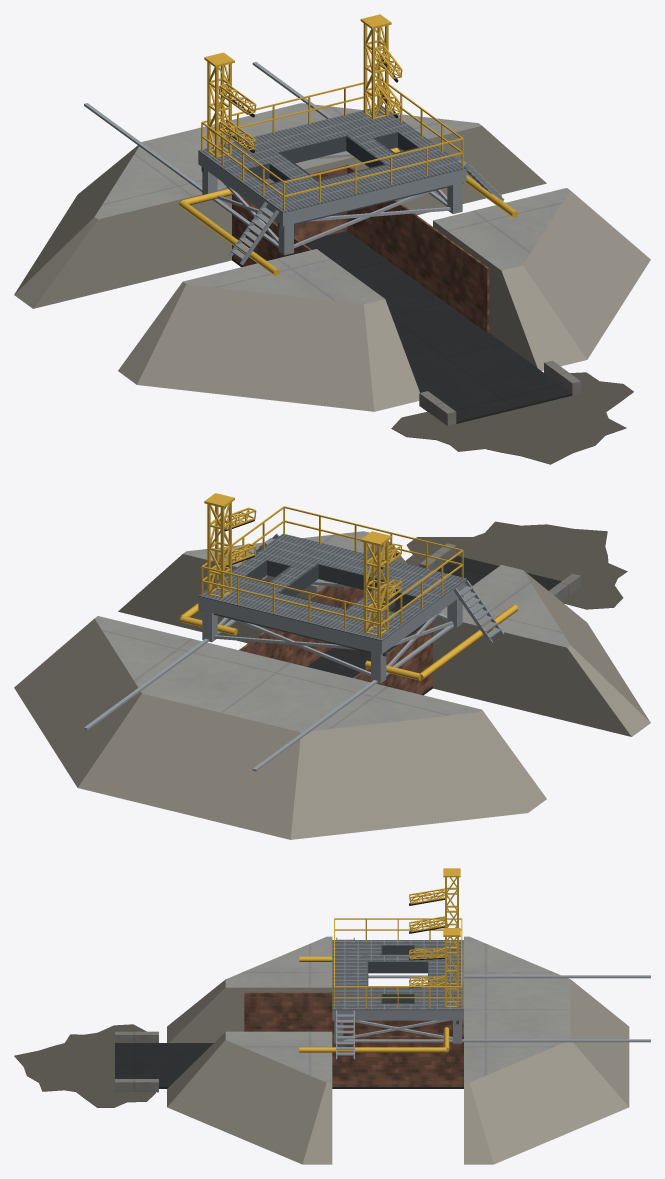
Rendered from table_ela3.glb.
3 views of the same model, one above another, from view 1: azimuth 30°, elevation 25°; view 2: azimuth 150°, elevation 25°; view 3: azimuth 270°, elevation 25° (orthographic). The views are drawn at different scales.
Visible parts, largest first — view 1: hardstand, table_ela3, masts; view 2: hardstand, table_ela3, masts; view 3: hardstand, table_ela3, masts.
Part boxes in pixels (x1,y1,x2,y2): hardstand: [14, 103, 650, 464]; table_ela3: [84, 62, 518, 275]; masts: [204, 14, 402, 157]; hardstand: [14, 521, 650, 839]; table_ela3: [84, 506, 518, 771]; masts: [204, 493, 402, 636]; hardstand: [14, 936, 629, 1164]; table_ela3: [299, 918, 650, 1059]; masts: [409, 868, 460, 1007].
Bounding box in the file's own units: 21.02 × 8.29 × 28.97.
Materials: 12 (5 with a texture image).
